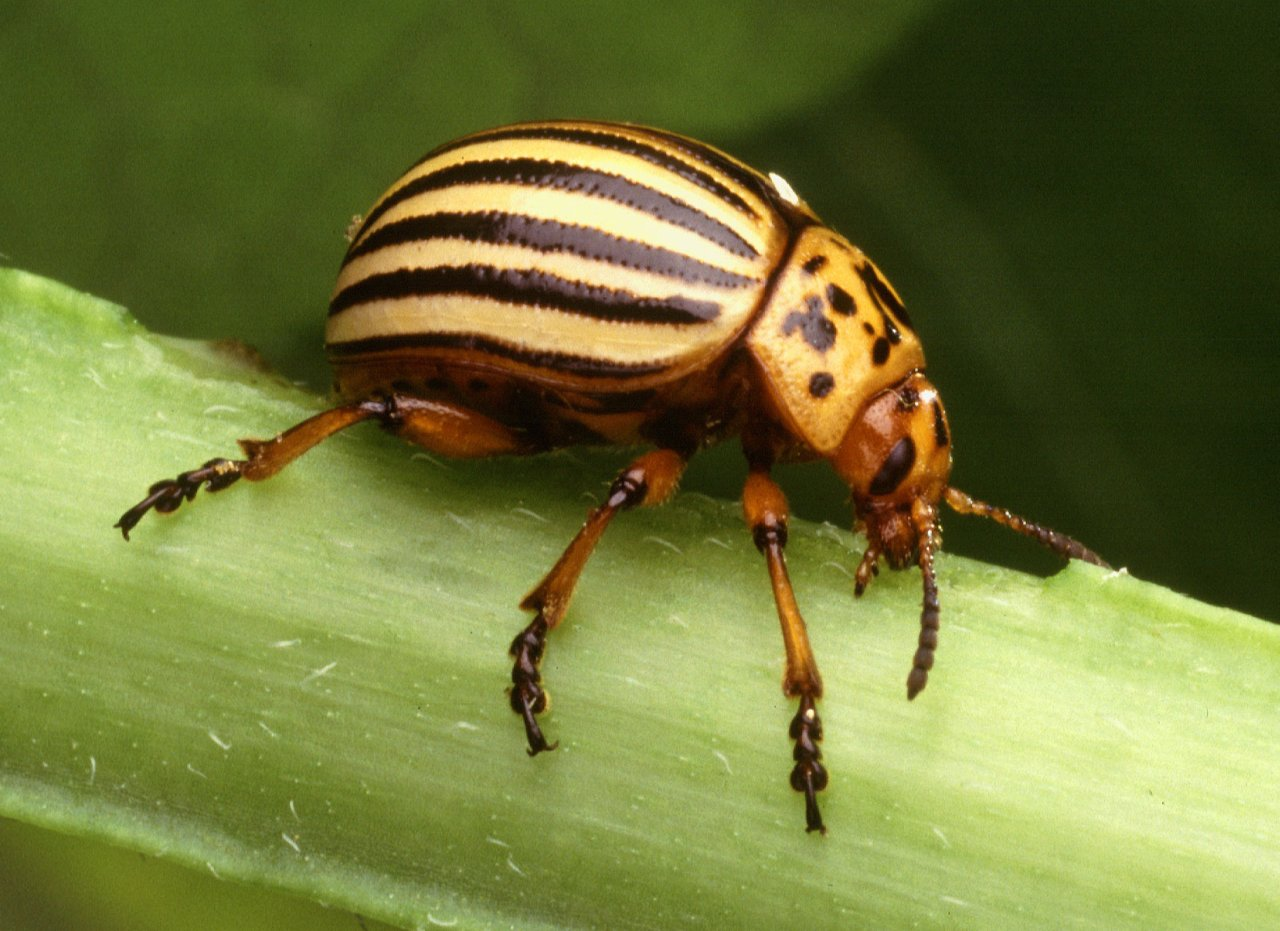Colorado Potato Beetle: (113, 112, 1136, 843)
